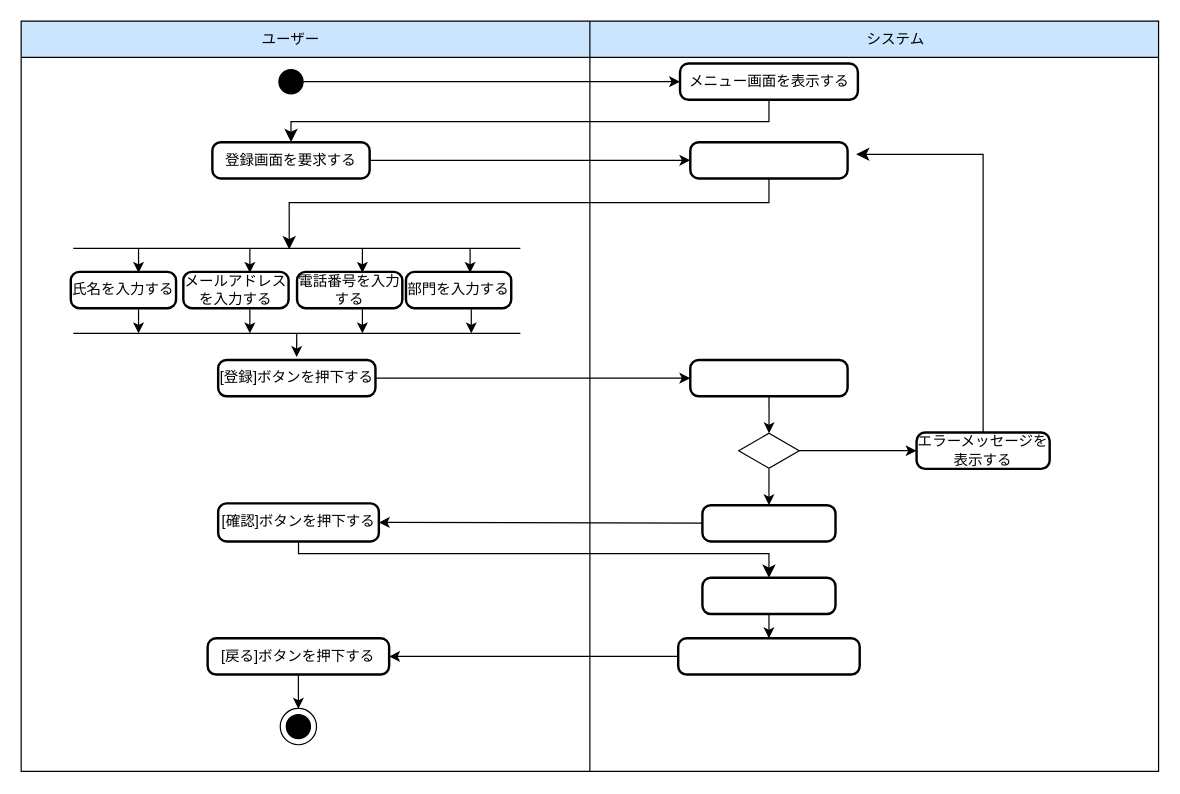
This 1180x794 diagram has some shape labels left out. Each missing label, with the centre of its shape:
入力欄をチェックする: [768,377]
完了メッセージを表示する: [768,655]
登録画面を表示する: [768,159]
確認画面を表示する: [768,522]
社員を登録する: [768,595]
